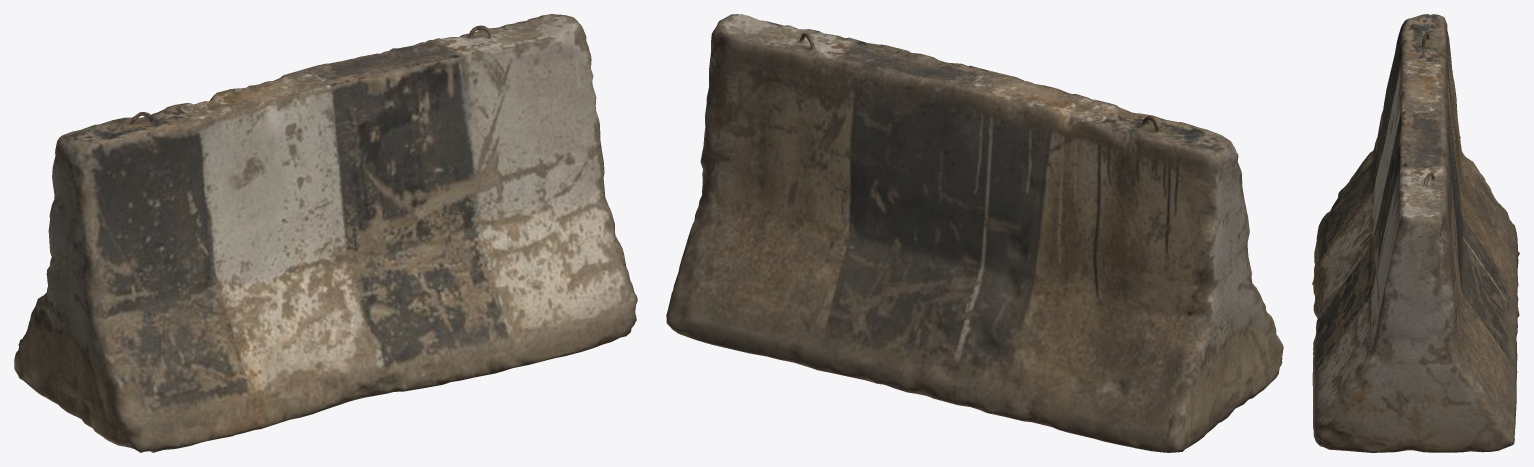
Rendered from concrete_road_barrier.glb.
3 renders of one model, left to right at view 1: azimuth 30°, elevation 25°; view 2: azimuth 150°, elevation 25°; view 3: azimuth 270°, elevation 25°, orthographic. The views are drawn at different scales.
Size of the model in its own units: 1.54 by 0.8308 by 0.6387.
1 material, 1 textured.
